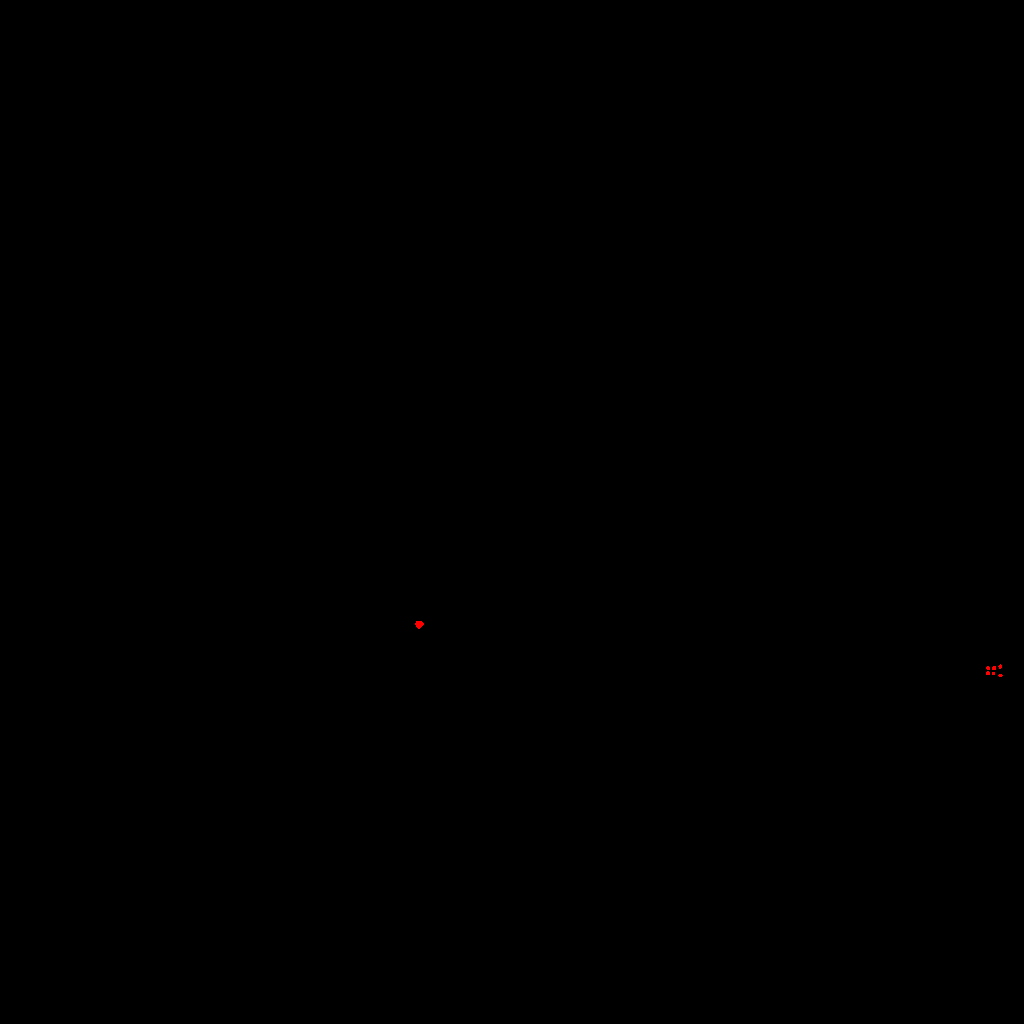Target: (415, 621, 424, 629), (998, 664, 1002, 669), (986, 666, 990, 670), (992, 666, 996, 670), (986, 671, 990, 675), (998, 674, 1003, 677), (992, 672, 995, 675)
